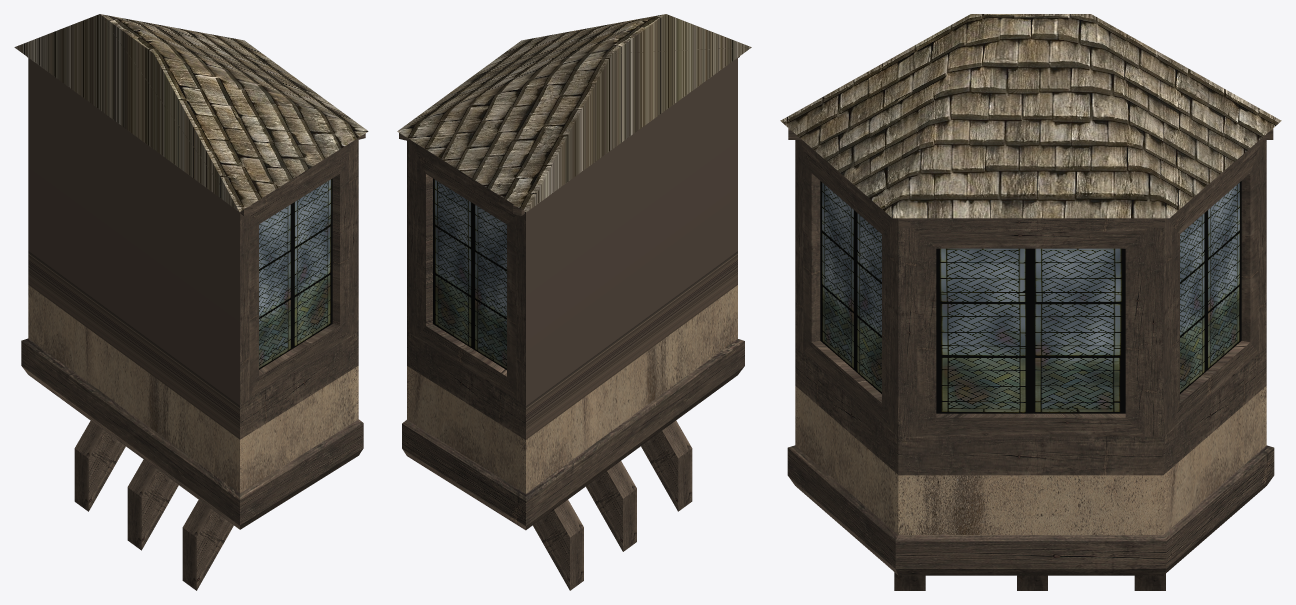
File: f1_balcony02.dae
The picture shows the model from 3 angles, left to right: view 1: azimuth 30°, elevation 25°; view 2: azimuth 150°, elevation 25°; view 3: azimuth 270°, elevation 25°; orthographic projection. The views are drawn at different scales.
Visible parts, largest first — view 1: f1_balcony02_Layer1; view 2: f1_balcony02_Layer1; view 3: f1_balcony02_Layer1.
Part boxes in pixels (bbox=[...]): f1_balcony02_Layer1: bbox=[14, 14, 368, 590]; f1_balcony02_Layer1: bbox=[397, 14, 751, 590]; f1_balcony02_Layer1: bbox=[780, 14, 1281, 590].
Size of the model in its own units: 0.98 by 2.68 by 2.13.
